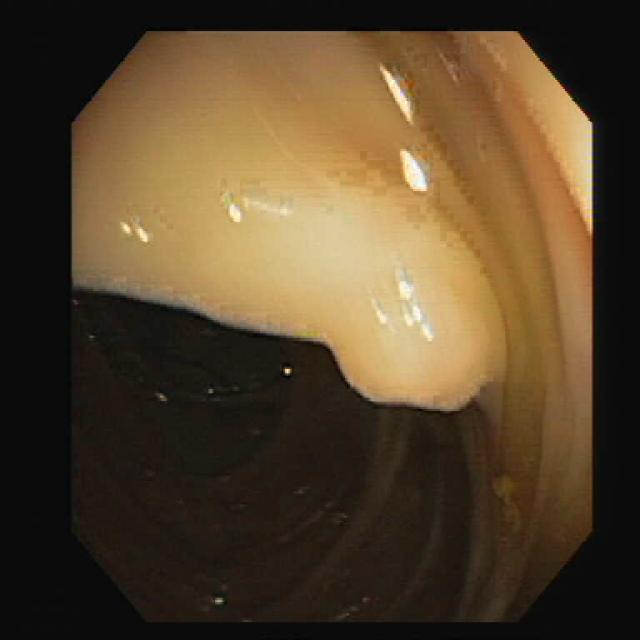tumor: (318, 193, 505, 409)
